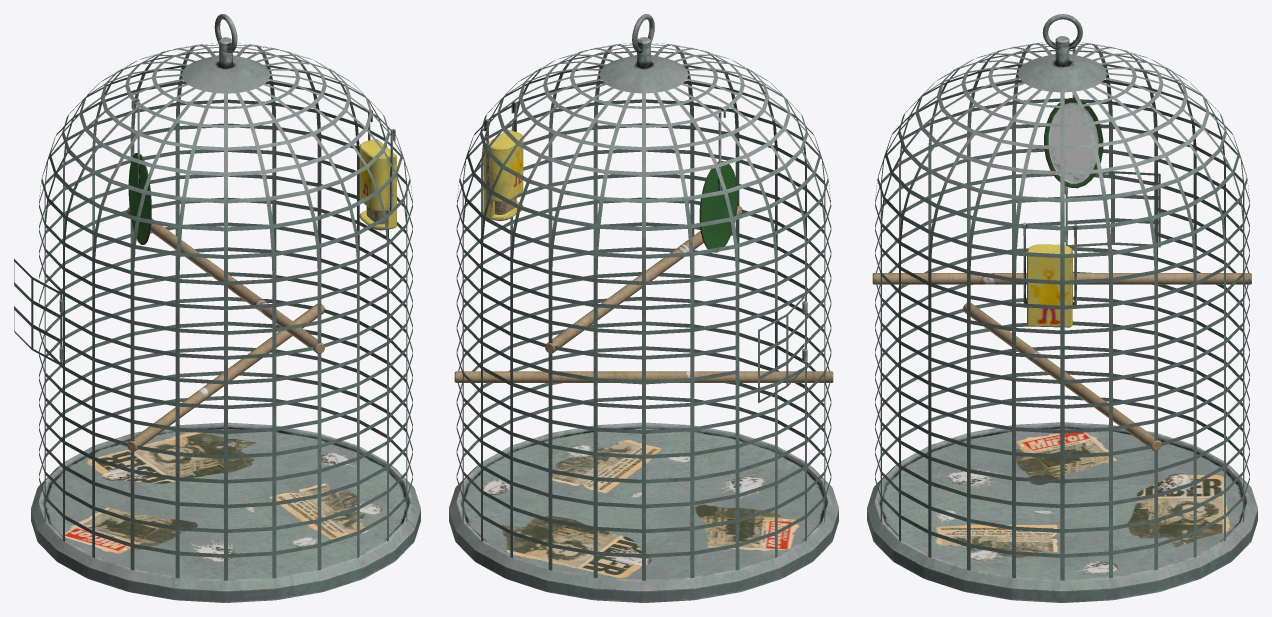
The picture shows the model from 3 angles, left to right: view 1: azimuth 30°, elevation 25°; view 2: azimuth 150°, elevation 25°; view 3: azimuth 270°, elevation 25°; orthographic projection.
Parts seen in each view (by area): view 1: Mesh_Default_0; view 2: Mesh_Default_0; view 3: Mesh_Default_0.
Part boxes in pixels (x1,y1,x2,y2): Mesh_Default_0: (14, 14, 420, 602); Mesh_Default_0: (449, 14, 838, 602); Mesh_Default_0: (867, 14, 1257, 602).
Size of the model in its own units: 113 by 162 by 113.
1 material, 1 textured.
